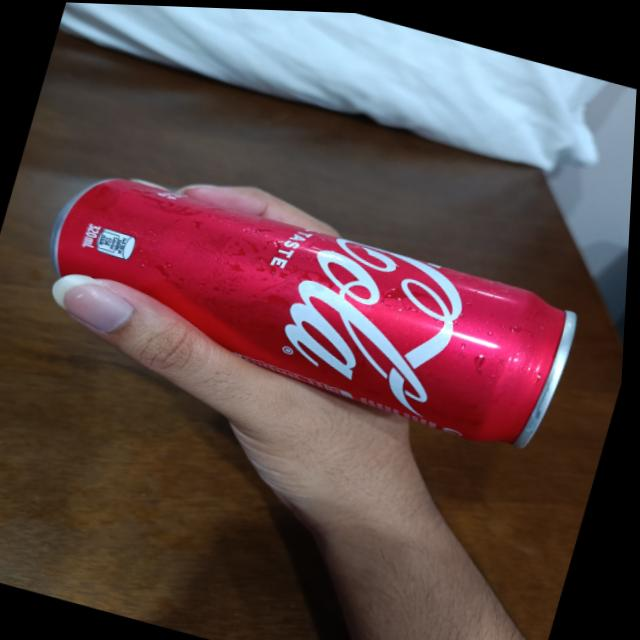coke: (30, 160, 594, 456)
